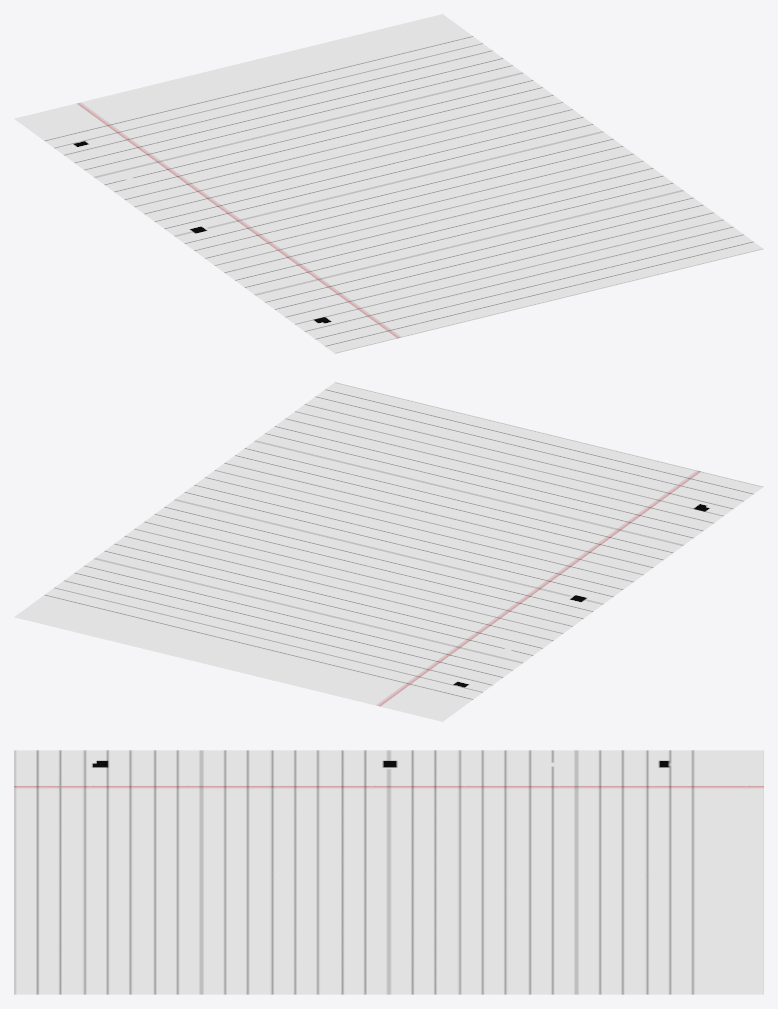
Rendered from paper.obj.
3 renders of one model, top to bottom at view 1: azimuth 30°, elevation 25°; view 2: azimuth 150°, elevation 25°; view 3: azimuth 270°, elevation 25°, orthographic. The views are drawn at different scales.
Visible parts, largest first — view 1: Plane; view 2: Plane; view 3: Plane.
Boxes of the visible parts, box(x1,y1,x2,y2) form: Plane: box(14, 14, 763, 353); Plane: box(14, 382, 763, 721); Plane: box(14, 750, 763, 994).
Size of the model in its own units: 2 by 0 by 2.59.
